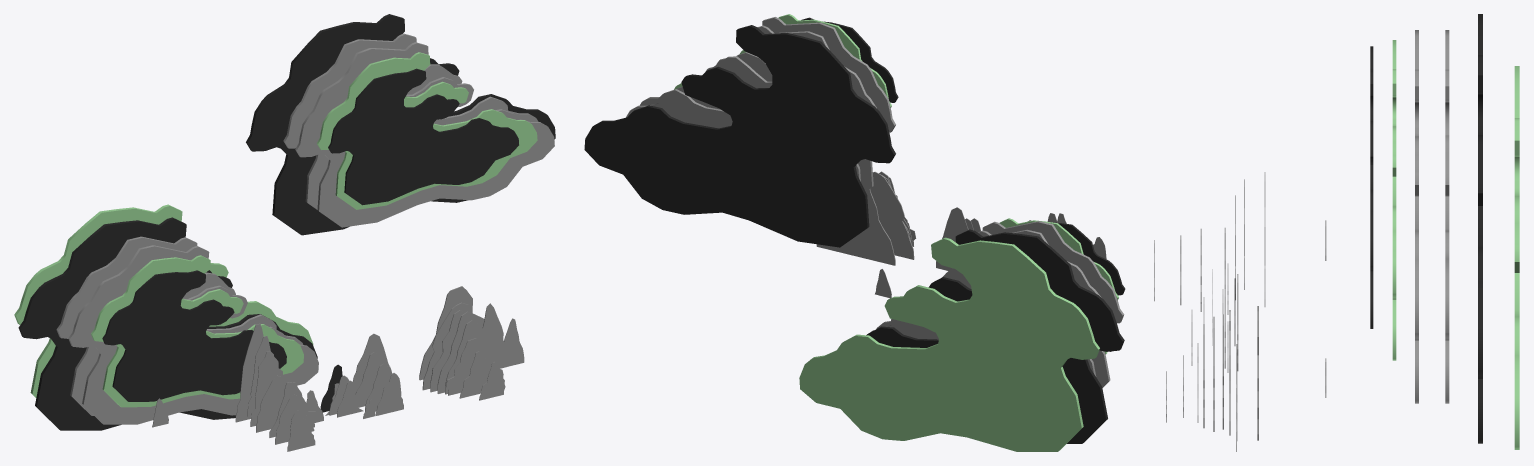
File: mounts_03_0.fbx
3 views of the same model, side by side, from view 1: azimuth 30°, elevation 25°; view 2: azimuth 150°, elevation 25°; view 3: azimuth 270°, elevation 25° (orthographic). The views are drawn at different scales.
Visible parts, largest first — view 1: Plane006, Plane001, Plane004, Plane009, Plane008, Plane003, Plane007, Plane002, Plane010, Plane011, Plane005, mount_03_10 (+20 smaller); view 2: Plane009, Plane011, Plane004, Plane008, Plane010, Plane003, mount_01_07, mount_01_10, Plane005, Plane006, Plane001, Plane007 (+2 smaller); view 3: Plane011, Plane009, Plane010, Plane007, Plane008, Plane006.
Boxes of the visible parts, left/top/right/bottom form: Plane006: left=328, top=68, right=518, bottom=205; Plane001: left=102, top=270, right=286, bottom=401; Plane004: left=18, top=217, right=317, bottom=430; Plane009: left=246, top=14, right=555, bottom=235; Plane008: left=295, top=42, right=554, bottom=227; Plane003: left=68, top=245, right=318, bottom=424; Plane007: left=317, top=52, right=537, bottom=209; Plane002: left=91, top=255, right=303, bottom=407; Plane010: left=283, top=33, right=538, bottom=209; Plane011: left=14, top=204, right=313, bottom=397; Plane005: left=56, top=236, right=303, bottom=415; mount_03_10: left=235, top=323, right=273, bottom=422; Plane009: left=584, top=25, right=895, bottom=247; Plane011: left=799, top=237, right=1099, bottom=451; Plane004: left=866, top=229, right=1124, bottom=443; Plane008: left=640, top=17, right=895, bottom=191; Plane010: left=626, top=25, right=876, bottom=181; Plane003: left=876, top=221, right=1124, bottom=387; mount_01_07: left=870, top=171, right=914, bottom=259; mount_01_10: left=816, top=189, right=895, bottom=265; Plane005: left=870, top=229, right=1101, bottom=376; Plane006: left=801, top=17, right=898, bottom=102; Plane001: left=1028, top=220, right=1125, bottom=295; Plane007: left=674, top=14, right=891, bottom=107; Plane011: left=1514, top=66, right=1519, bottom=449; Plane009: left=1478, top=14, right=1482, bottom=378; Plane010: left=1445, top=30, right=1449, bottom=340; Plane007: left=1392, top=40, right=1396, bottom=299; Plane008: left=1415, top=30, right=1418, bottom=340; Plane006: left=1370, top=46, right=1373, bottom=271.
Bounding box in the file's own units: 7333 × 4782 × 3372.
